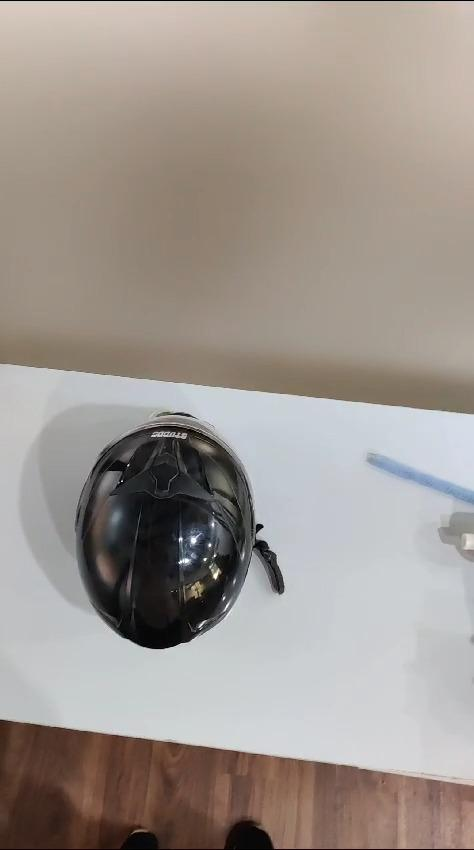Helmet: (68, 404, 265, 683)
